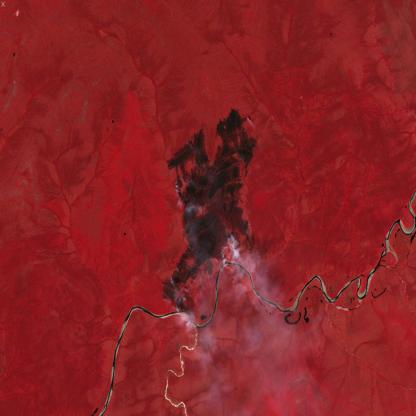fire: (150, 174, 252, 318)
